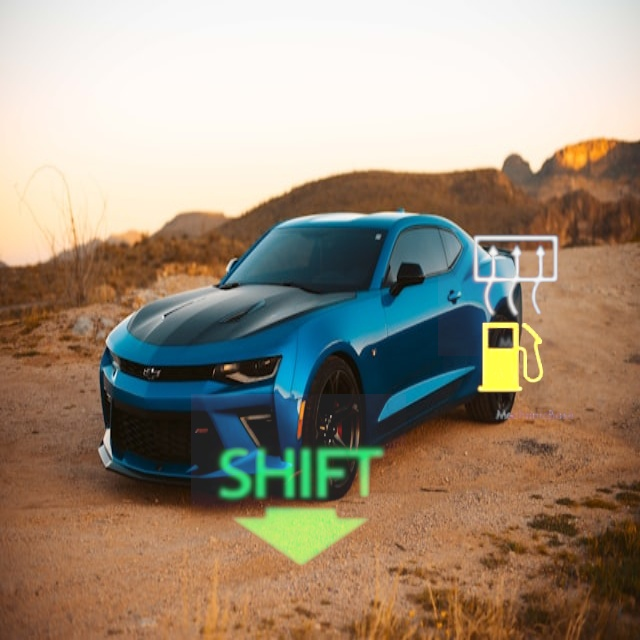symbol: (191, 394, 406, 609), (438, 199, 595, 356), (443, 290, 579, 426)
